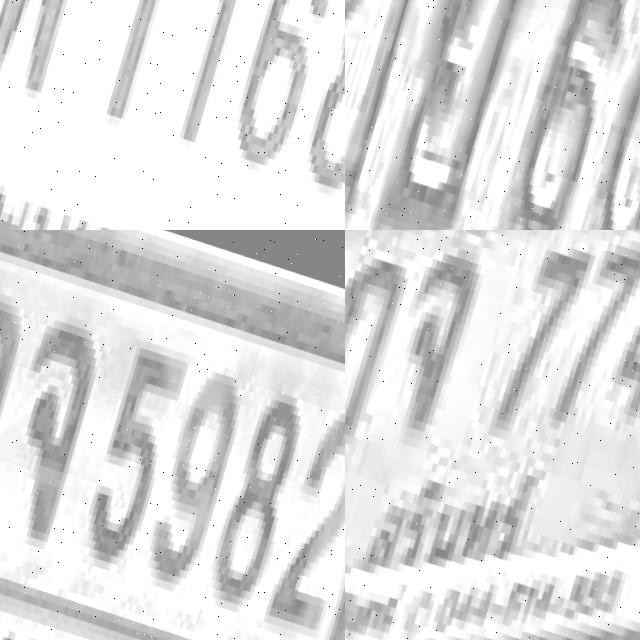license-plate: (0, 230, 345, 640), (345, 230, 640, 640), (0, 0, 345, 230), (345, 0, 640, 230)
